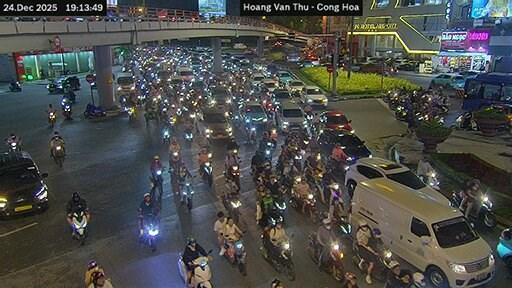motorbike: (259, 232, 294, 279), (178, 253, 211, 287), (469, 193, 496, 228), (371, 243, 393, 280), (224, 238, 246, 274), (291, 192, 317, 221), (323, 243, 342, 279), (140, 215, 157, 251), (307, 171, 326, 202), (179, 175, 194, 210), (221, 193, 240, 220), (259, 203, 282, 225), (451, 111, 476, 129), (332, 212, 351, 234), (73, 211, 86, 243), (224, 166, 240, 188), (307, 234, 320, 261), (150, 169, 162, 198), (419, 171, 438, 189), (169, 152, 181, 175), (272, 193, 285, 214), (201, 161, 211, 187), (53, 143, 64, 166), (352, 241, 364, 262), (83, 104, 105, 115), (60, 95, 70, 118), (394, 104, 406, 120), (246, 126, 255, 144), (451, 192, 461, 207), (6, 139, 18, 151), (124, 106, 134, 120), (48, 111, 56, 126), (64, 90, 74, 102), (162, 126, 169, 143), (185, 130, 192, 147), (63, 102, 70, 118), (9, 81, 21, 90), (361, 261, 368, 271), (355, 265, 359, 268)
